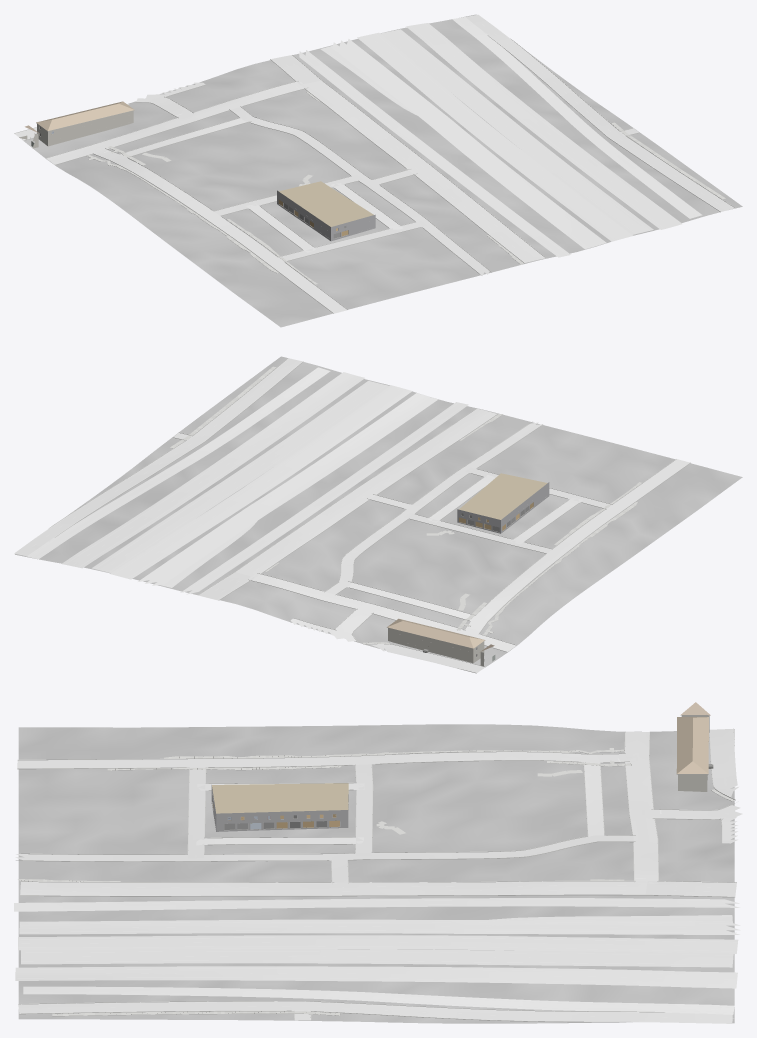
3 renders of one model, top to bottom at view 1: azimuth 30°, elevation 25°; view 2: azimuth 150°, elevation 25°; view 3: azimuth 270°, elevation 25°, orthographic. The views are drawn at different scales.
Visible parts, largest first — view 1: ground, asphalt, concrete, curb, roof_flat, mark_w, walk, mark_y, wall_stucco, wall_com, roof; view 2: ground, asphalt, concrete, curb, roof_flat, walk, mark_w, mark_y, wall_stucco, roof, wall_com; view 3: ground, asphalt, concrete, curb, roof_flat, mark_w, walk, mark_y, roof, wall_com, wall_stucco.
Part boxes in pixels (x1,y1,x2,y2): ground: (24,14,742,327); asphalt: (92,14,734,313); concrete: (14,81,638,275); curb: (14,35,734,313); roof_flat: (279,181,373,226); mark_w: (104,15,733,262); walk: (87,91,725,284); mark_y: (291,18,721,257); wall_stucco: (32,111,133,148); wall_com: (277,190,375,241); roof: (25,101,134,132); ground: (15,356,742,673); asphalt: (14,358,689,636); concrete: (173,422,611,672); curb: (50,358,690,673); roof_flat: (459,473,547,519); walk: (170,366,641,644); mark_w: (21,358,496,629); mark_y: (28,361,476,594); wall_stucco: (388,628,484,666); roof: (387,618,494,651); wall_com: (457,482,549,533); ground: (18,724,734,1023); asphalt: (14,752,740,1023); concrete: (15,728,742,1020); curb: (16,728,736,1022); roof_flat: (212,783,348,813); mark_w: (14,758,737,1022); walk: (18,748,734,1015); mark_y: (14,894,736,1014); roof: (676,702,710,773); wall_com: (211,785,348,831); wall_stucco: (678,715,709,791).
Bounding box in the file's own units: 253 × 12.41 × 255.
